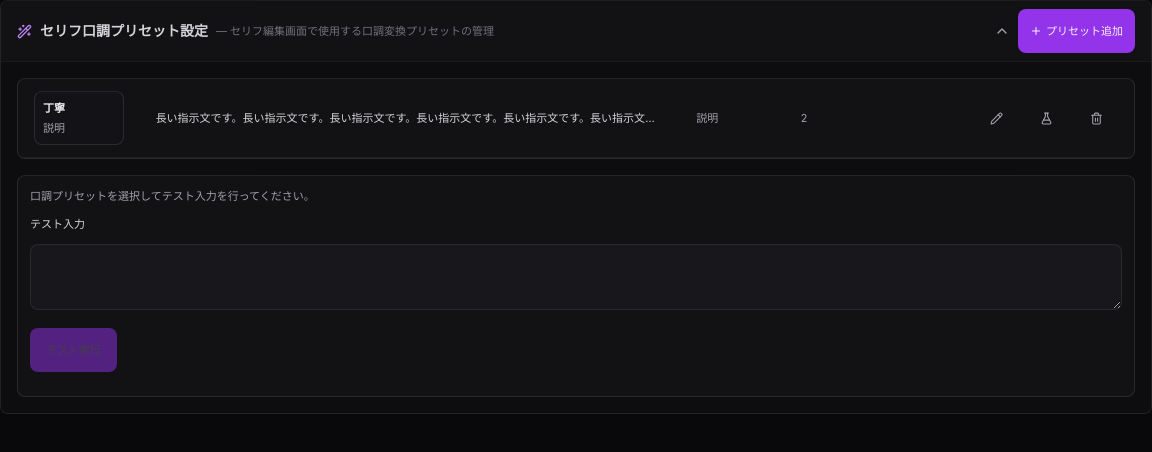
Test: SpeechToneSection › retains successful preset testing and prevents duplicate real requests while pending
expect the element "丁寧" is shown: met, box [34, 91, 124, 145]
expect the button "テスト実行" is disabled: met, box [30, 328, 117, 372]
Click the button named "丁寧 をテスト対象にする": (1046, 118) [1024, 96, 1068, 140]
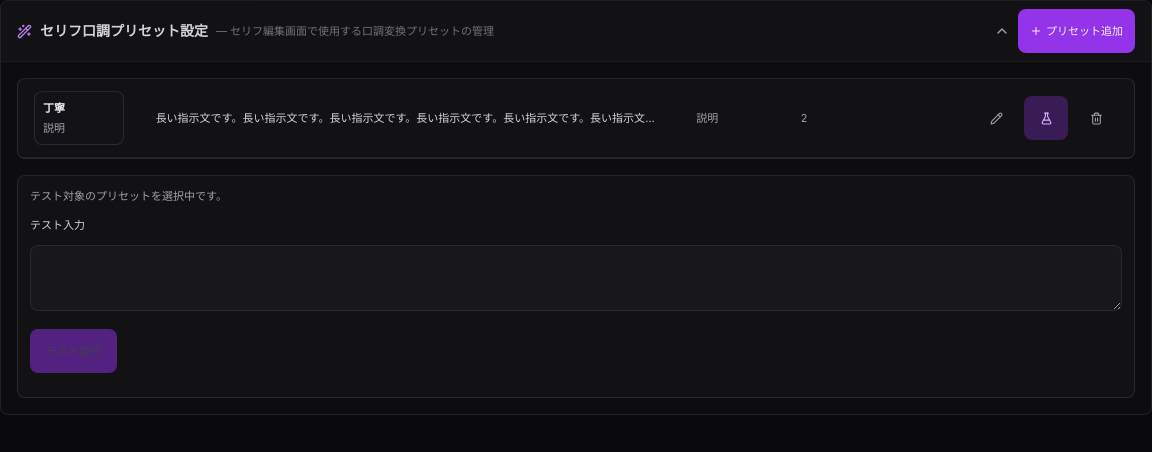
In the text box labelled "テスト入力": (576, 278) [30, 244, 1122, 310], type "こんにちは"
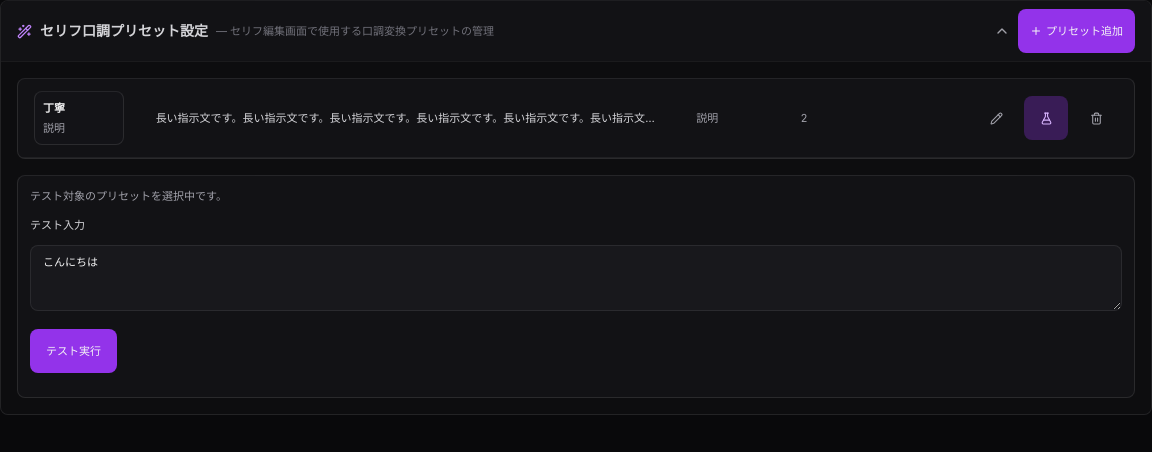
Click the button "テスト実行": (74, 350) [30, 328, 117, 372]
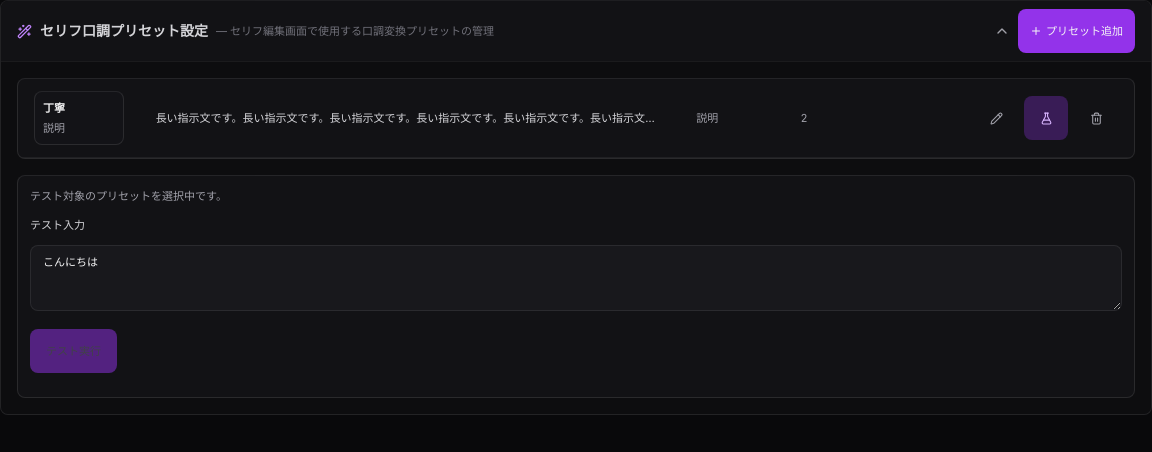
Click the button "テスト実行": (74, 350) [30, 328, 117, 372]
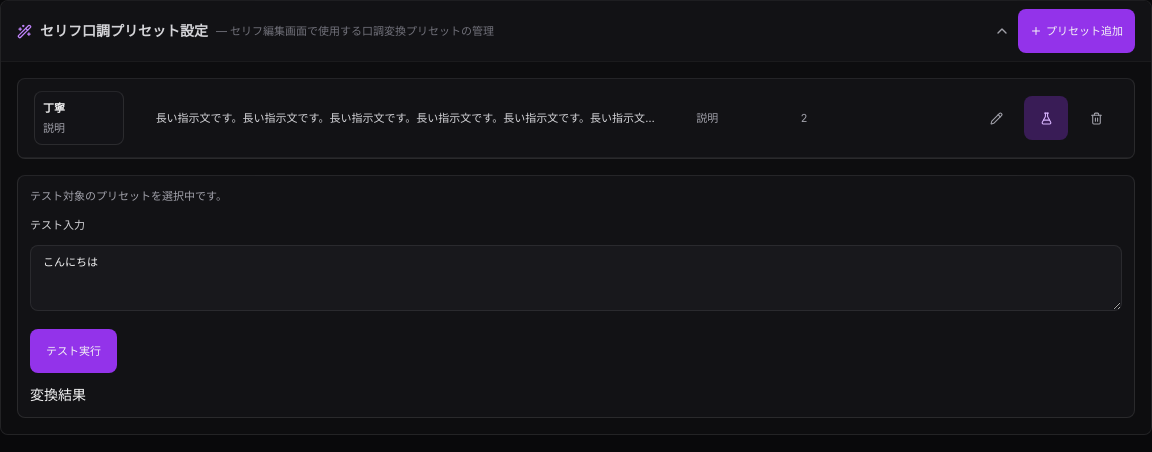
expect the text named "テスト出力" reads "変換結果": met, box [30, 386, 86, 402]
